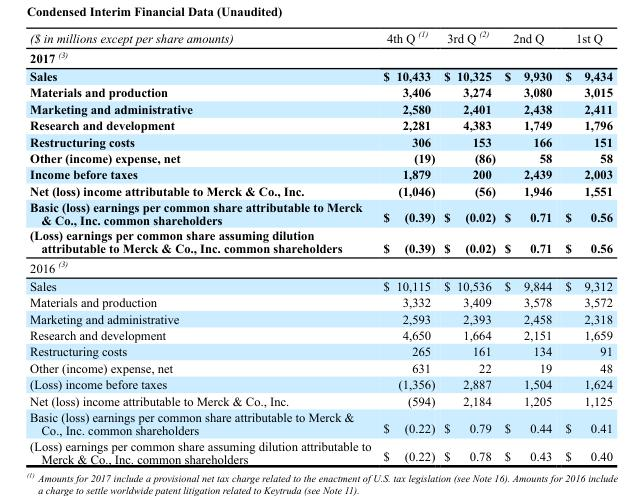table: (29, 29, 611, 465)
table column: (29, 29, 376, 465), (376, 29, 438, 465), (438, 29, 499, 465), (499, 29, 557, 465), (557, 29, 611, 465)
table column header: (29, 29, 611, 47)
table projected row header: (29, 256, 611, 276), (29, 47, 611, 66)
table row: (29, 198, 611, 227), (29, 227, 611, 256), (29, 408, 611, 437), (29, 437, 611, 465), (29, 256, 611, 276), (29, 47, 611, 66), (29, 29, 611, 47), (29, 66, 611, 83), (29, 83, 611, 100), (29, 116, 611, 133), (29, 165, 611, 182), (29, 276, 611, 293), (29, 293, 611, 310), (29, 342, 611, 359), (29, 375, 611, 392), (29, 100, 611, 116), (29, 133, 611, 149), (29, 149, 611, 165), (29, 182, 611, 198), (29, 310, 611, 326), (29, 326, 611, 342), (29, 359, 611, 375), (29, 392, 611, 408)
